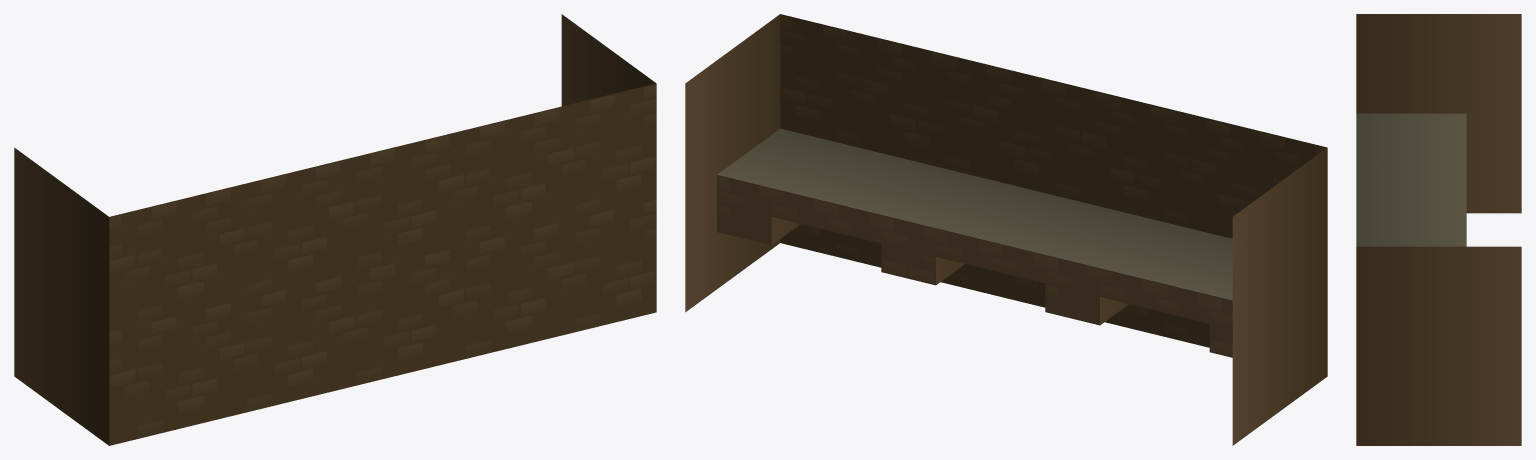
The model's file is SM_Room7_8x20.fbx.
3 renders of one model, left to right at view 1: azimuth 30°, elevation 25°; view 2: azimuth 150°, elevation 25°; view 3: azimuth 270°, elevation 25°, orthographic. The views are drawn at different scales.
Visible parts, largest first — view 1: SM_Room7_8x20; view 2: SM_Room7_8x20; view 3: SM_Room7_8x20.
Boxes of the visible parts, <box> form: SM_Room7_8x20: <box>14,14,656,445</box>; SM_Room7_8x20: <box>685,14,1327,445</box>; SM_Room7_8x20: <box>1356,14,1521,445</box>.
Bounding box in the file's own units: 2000 × 600 × 800.
